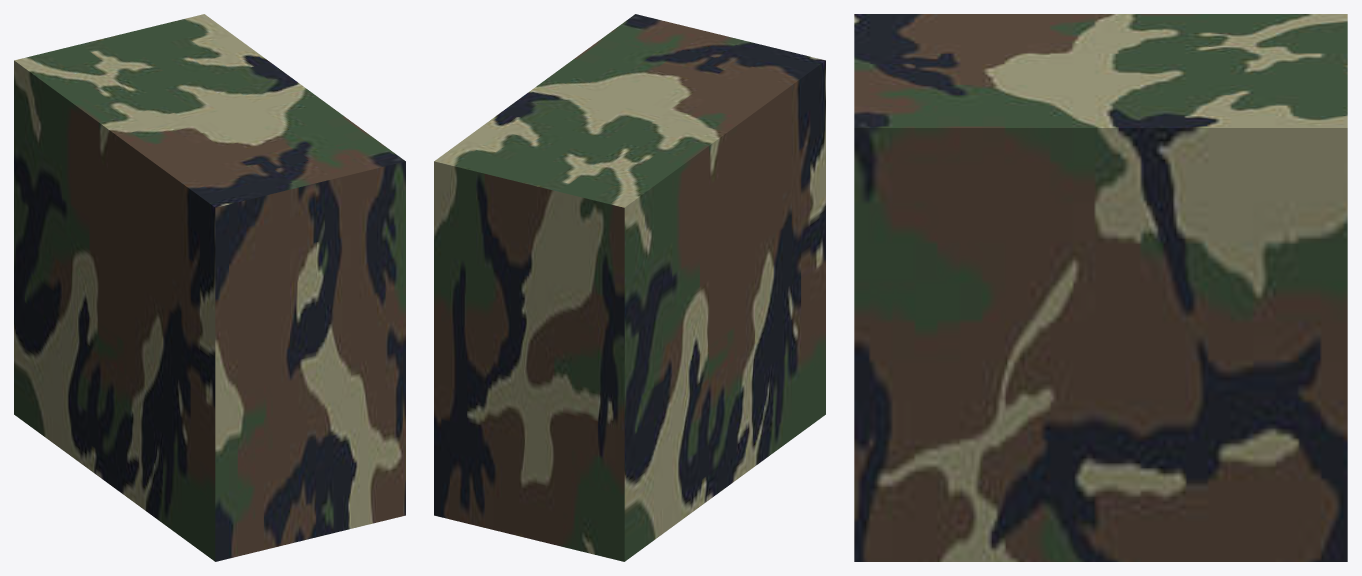
Rendered from vasyl_cube.glb.
3 renders of one model, left to right at view 1: azimuth 30°, elevation 25°; view 2: azimuth 150°, elevation 25°; view 3: azimuth 270°, elevation 25°, orthographic. The views are drawn at different scales.
Parts seen in each view (by area): view 1: Cube; view 2: Cube; view 3: Cube.
Part boxes in pixels (x1,y1,x2,y2): Cube: [14, 14, 405, 561]; Cube: [434, 14, 825, 561]; Cube: [854, 14, 1347, 561].
Bounding box in the file's own units: 1.55 × 2.75 × 2.83.
Materials: 1 (1 with a texture image).
